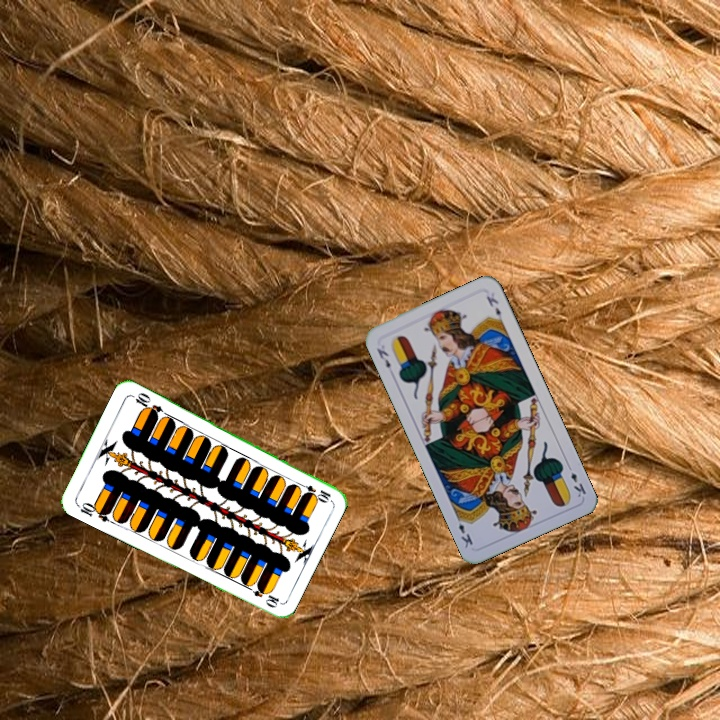E10: (73, 498, 113, 525), (294, 479, 334, 503)
EK: (563, 460, 589, 500), (372, 344, 393, 371)
